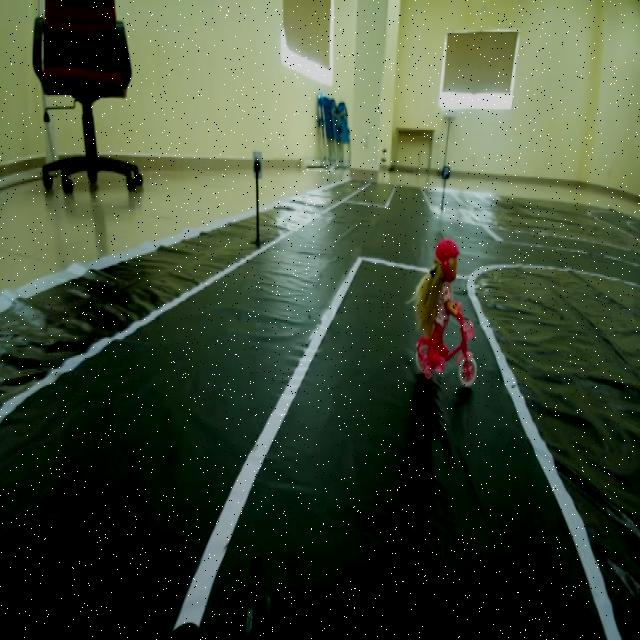pedestrian: (407, 234, 481, 382)
